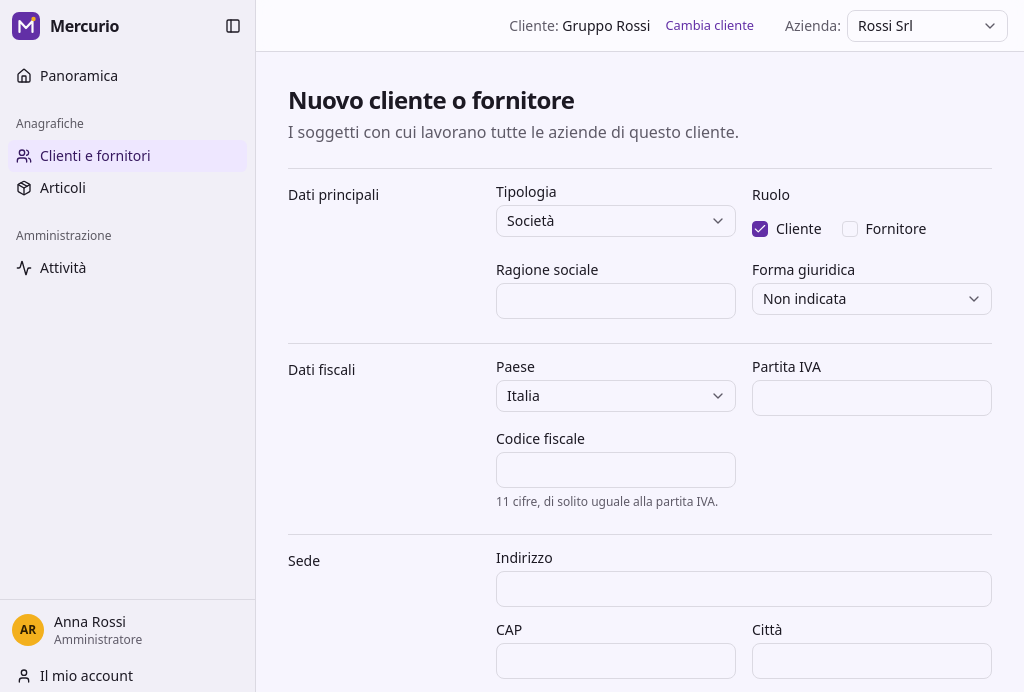
Test: party record › shows the fields of the chosen kind
The width and height of the screenshot is (1024, 692).
Select "Privato" in the dropdown labelled "Tipologia" at (616, 221), box [496, 205, 736, 237]
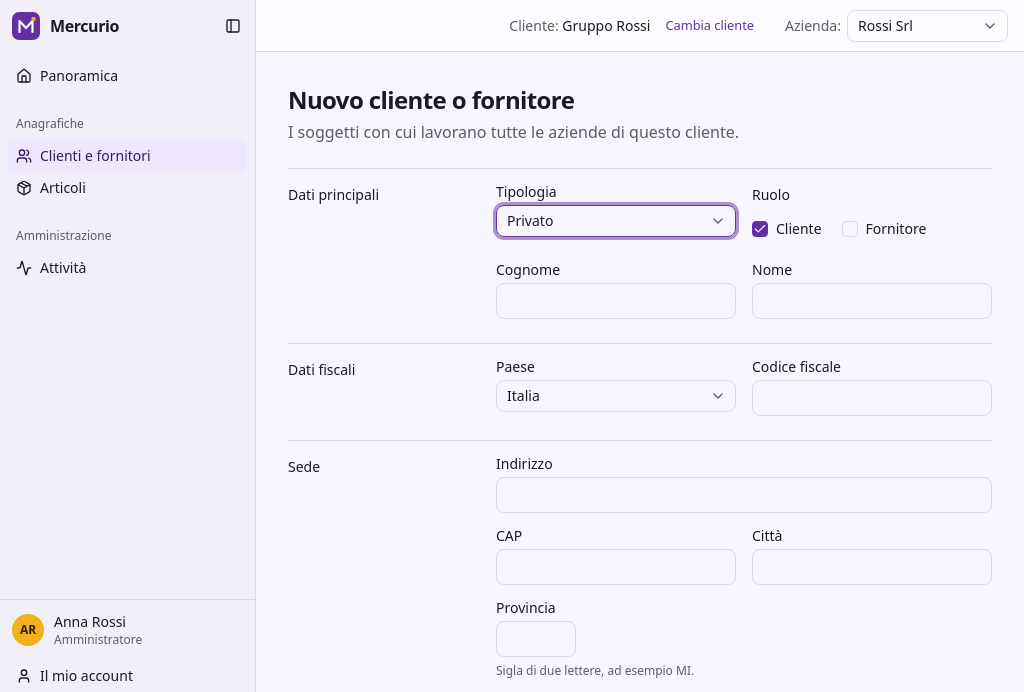
expect the field labelled "Nome" is shown: met, box [752, 283, 992, 319]
expect the label labelled "Partita IVA" is gone: met
expect the label labelled "Forma giuridica" is gone: met
Select "DE" in the dropdown labelled "Paese" at (616, 396), box [496, 380, 736, 412]
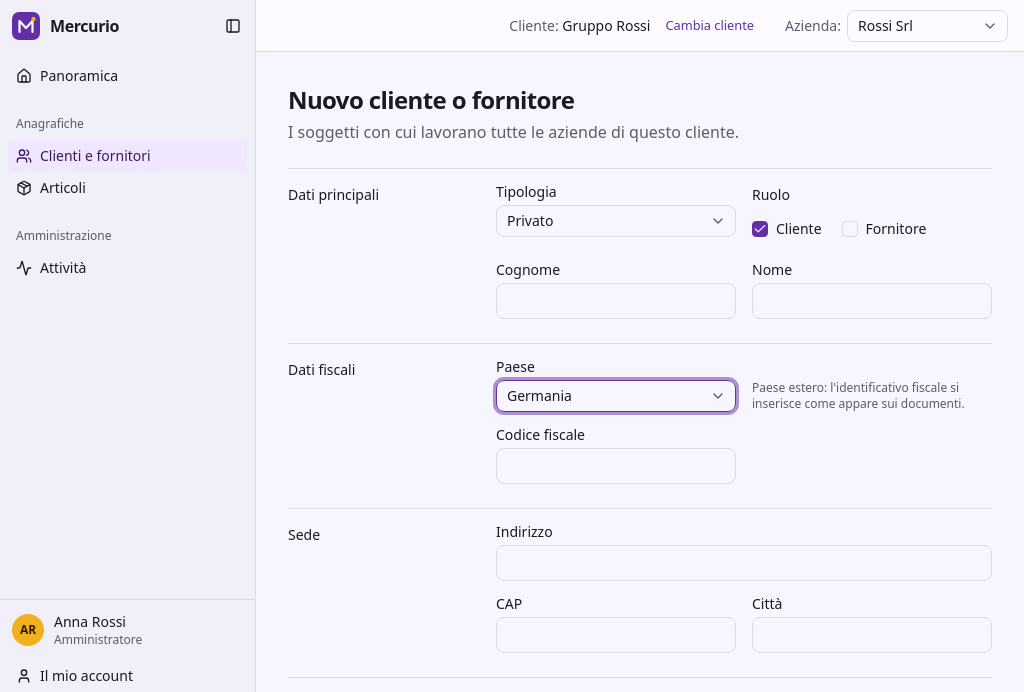
expect the label labelled "Provincia" is gone: met
